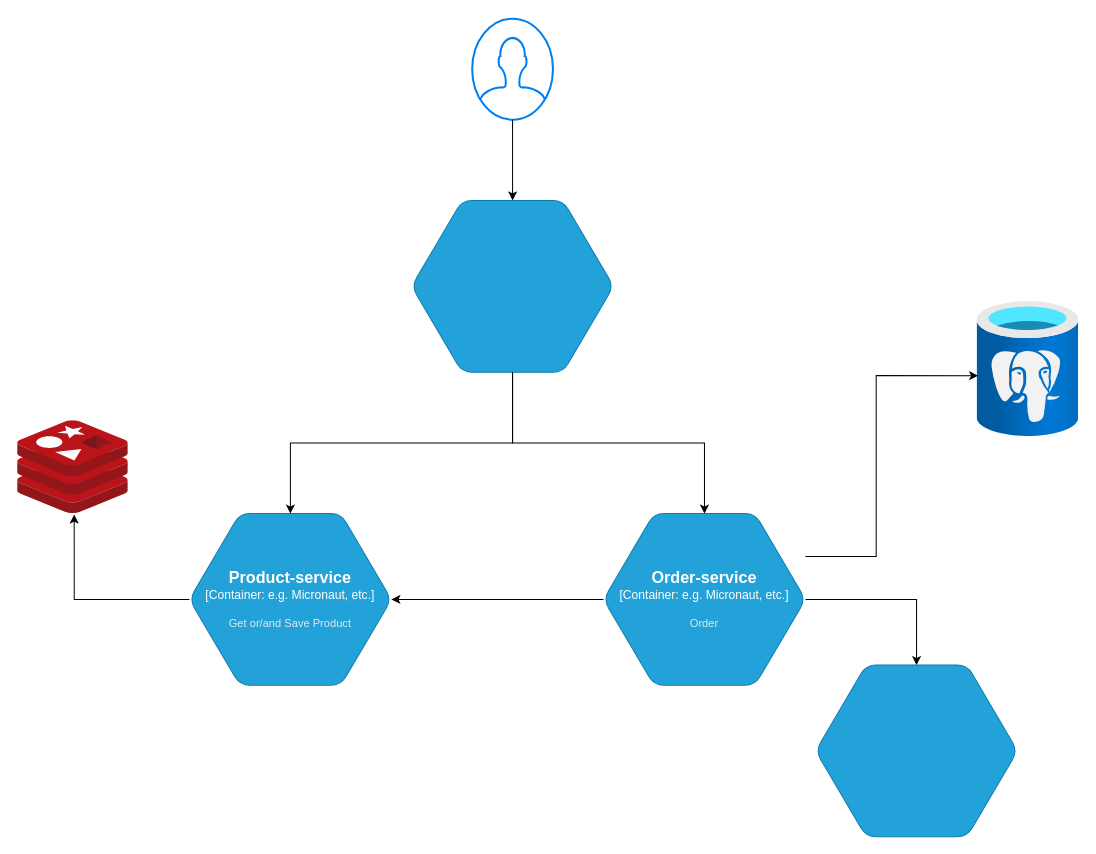
This 1096x854 diagram has some shape labels left out. The centre of each missing label's shape, as x and y in pixels:
"Frontend [Container: e.g. Micronaut, etc.] User Interface" belongs at point 512,285.
"Notification-service [Container: e.g. Micronaut, etc.] Send Notification" belongs at point 916,750.
